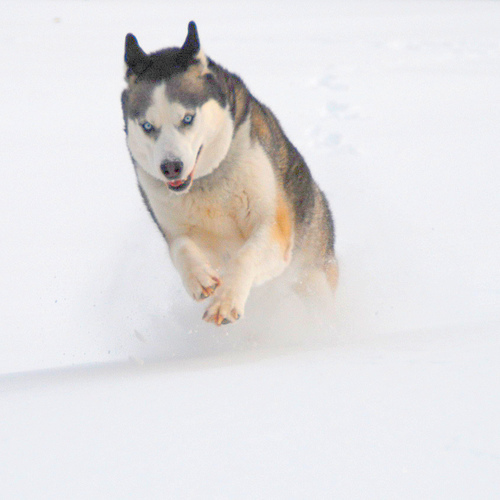dog: (120, 18, 340, 325)
